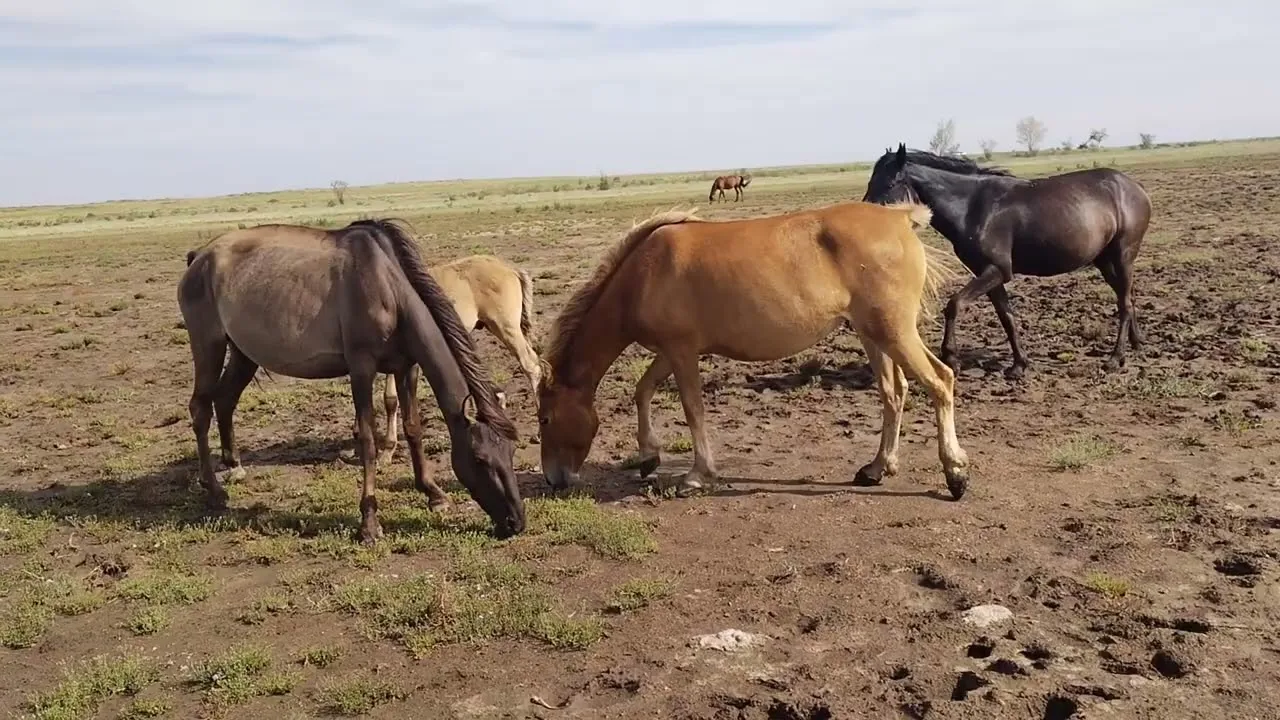horse: (162, 209, 540, 563), (540, 196, 960, 512)
